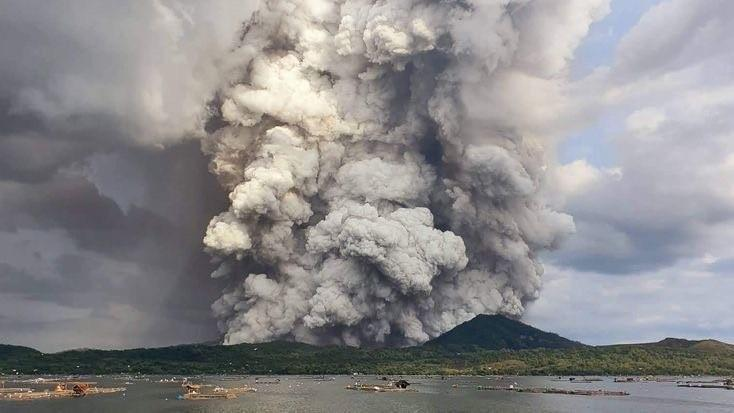smoke: (169, 0, 537, 358)
